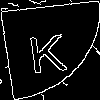K: (25, 24, 69, 74)
